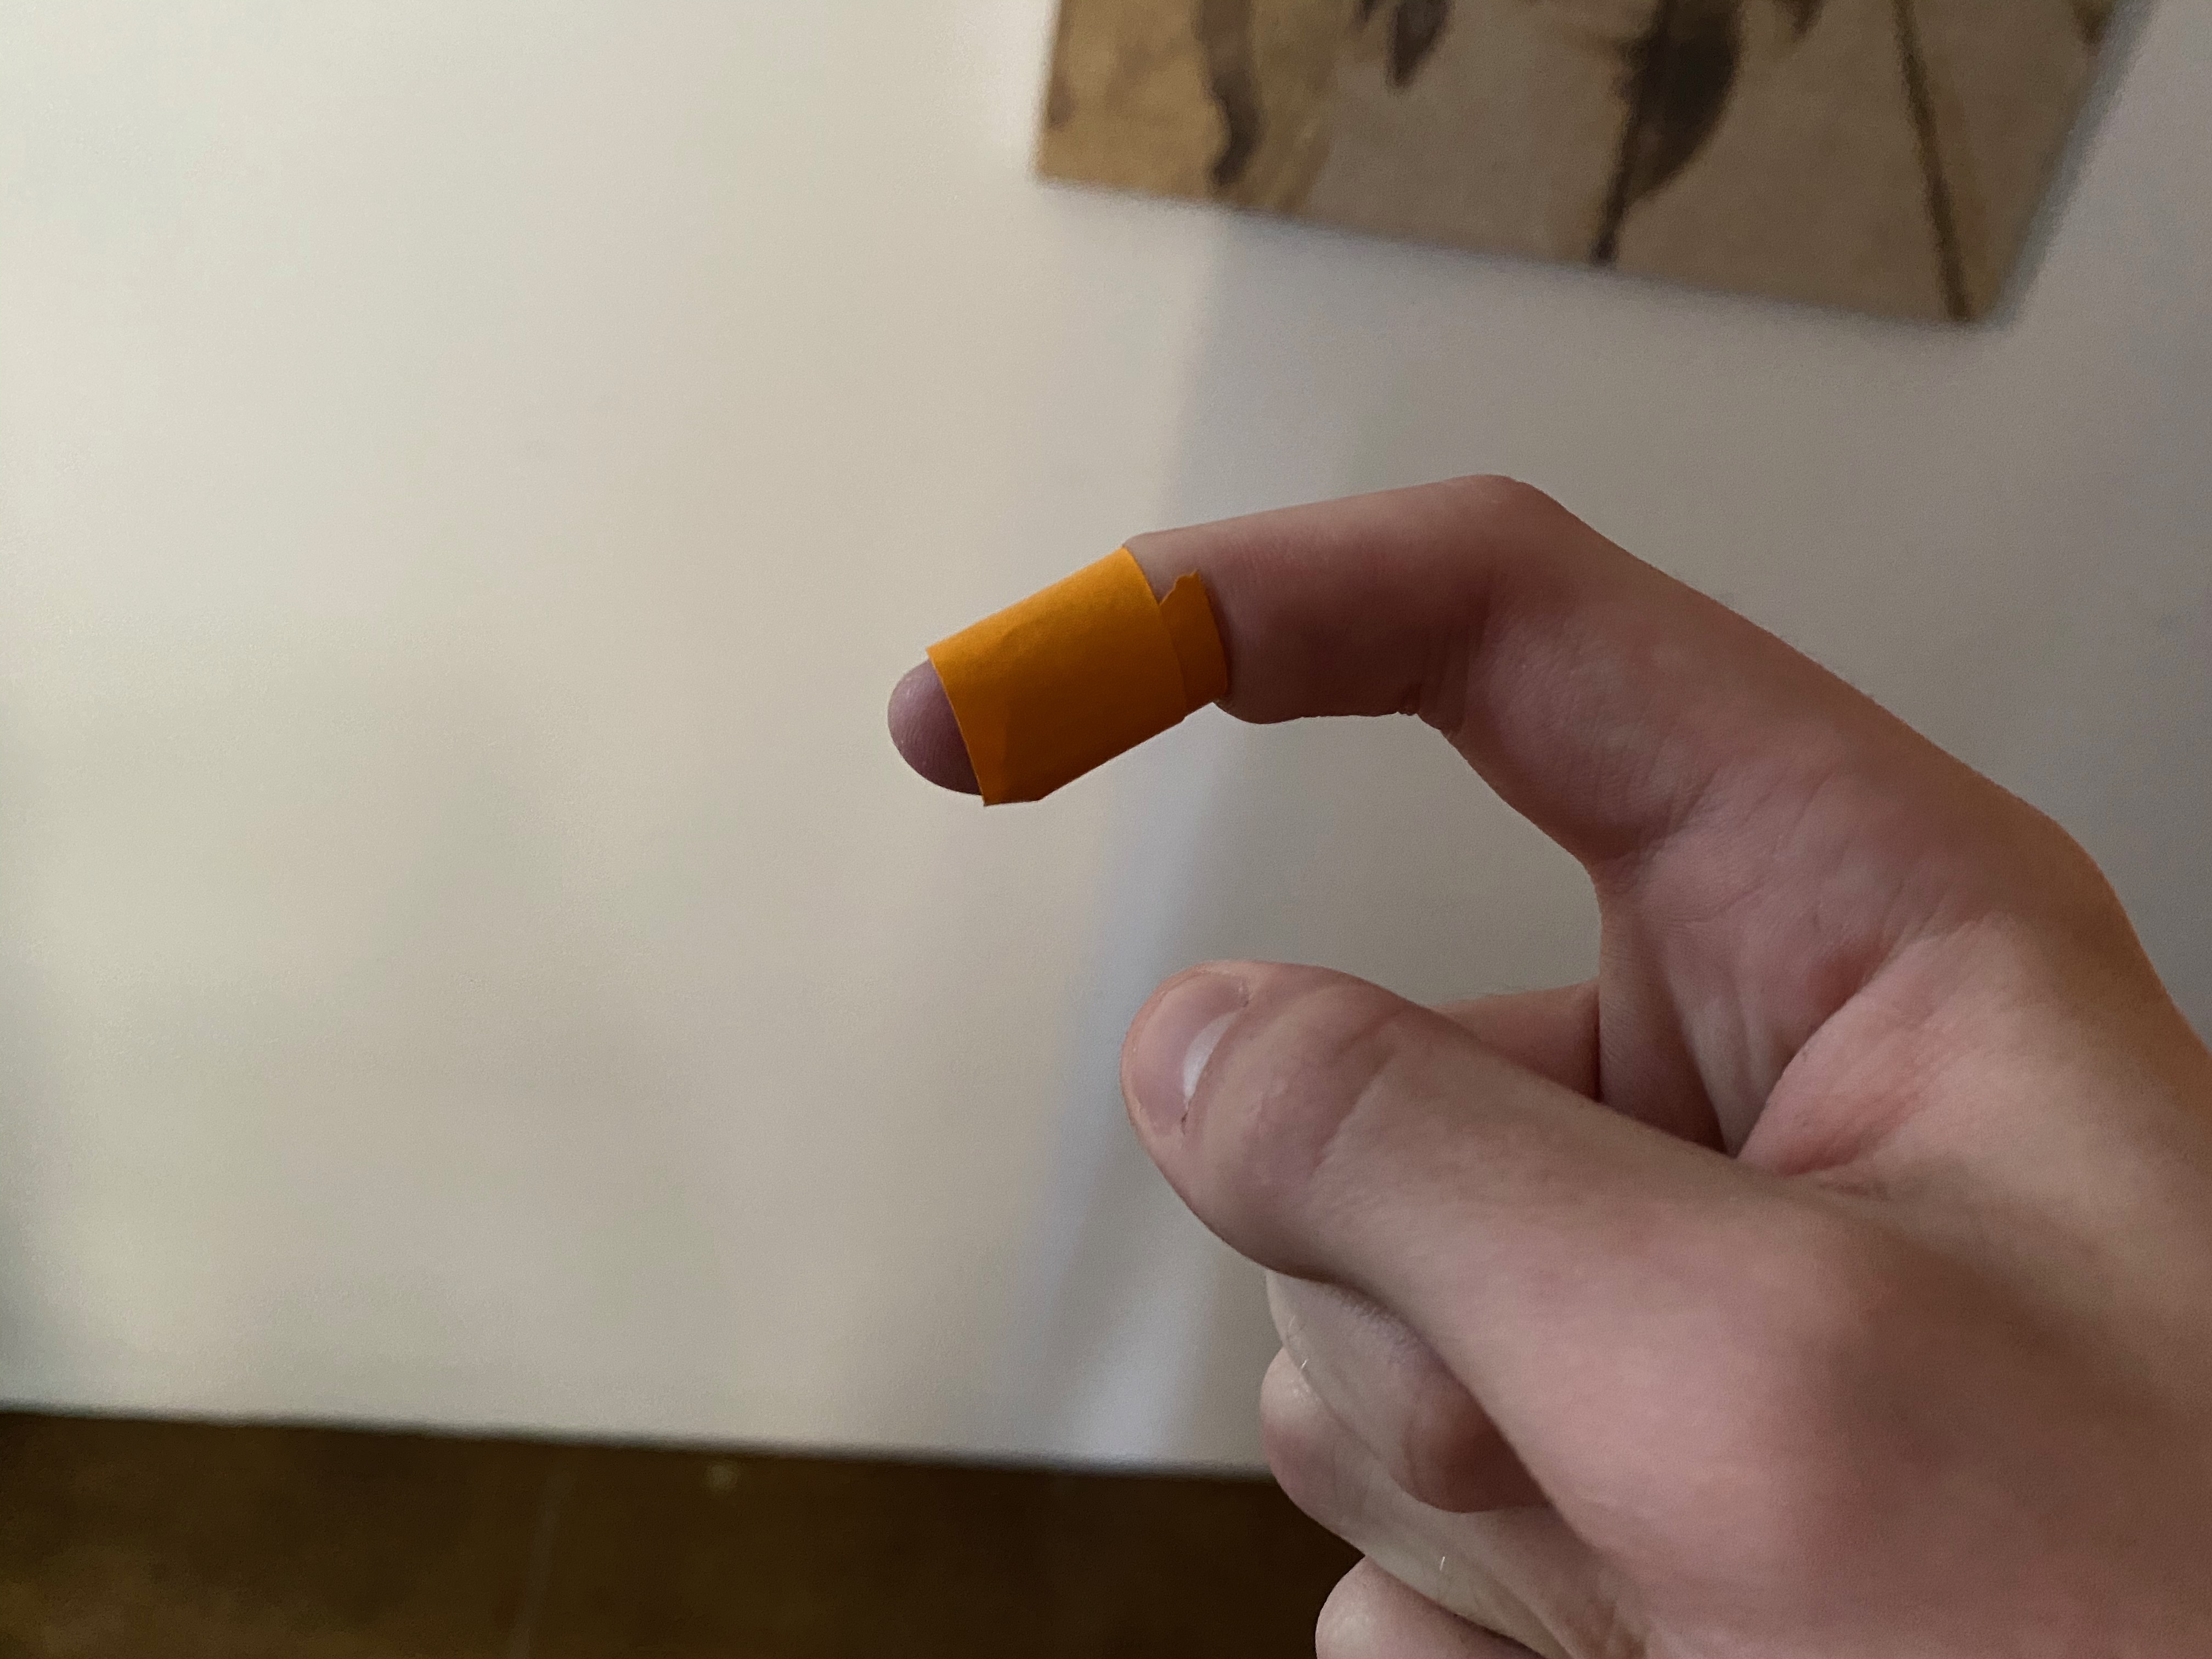fingertip: (862, 552, 1259, 830)
